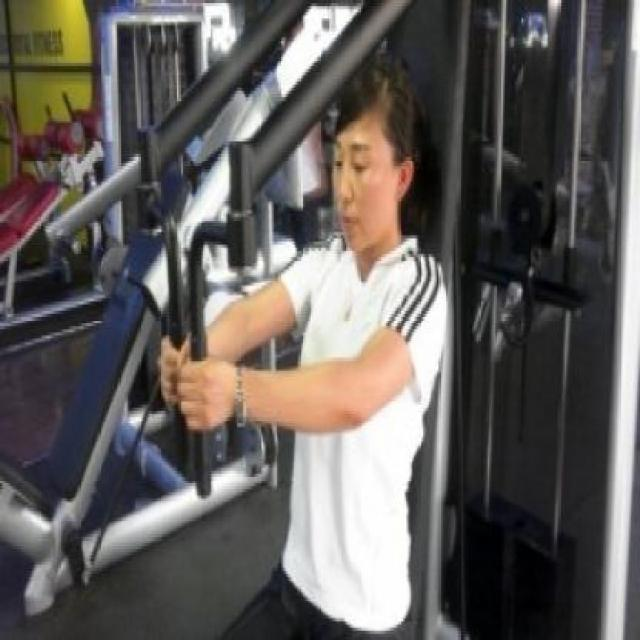chest fly machine: (120, 9, 640, 640)
